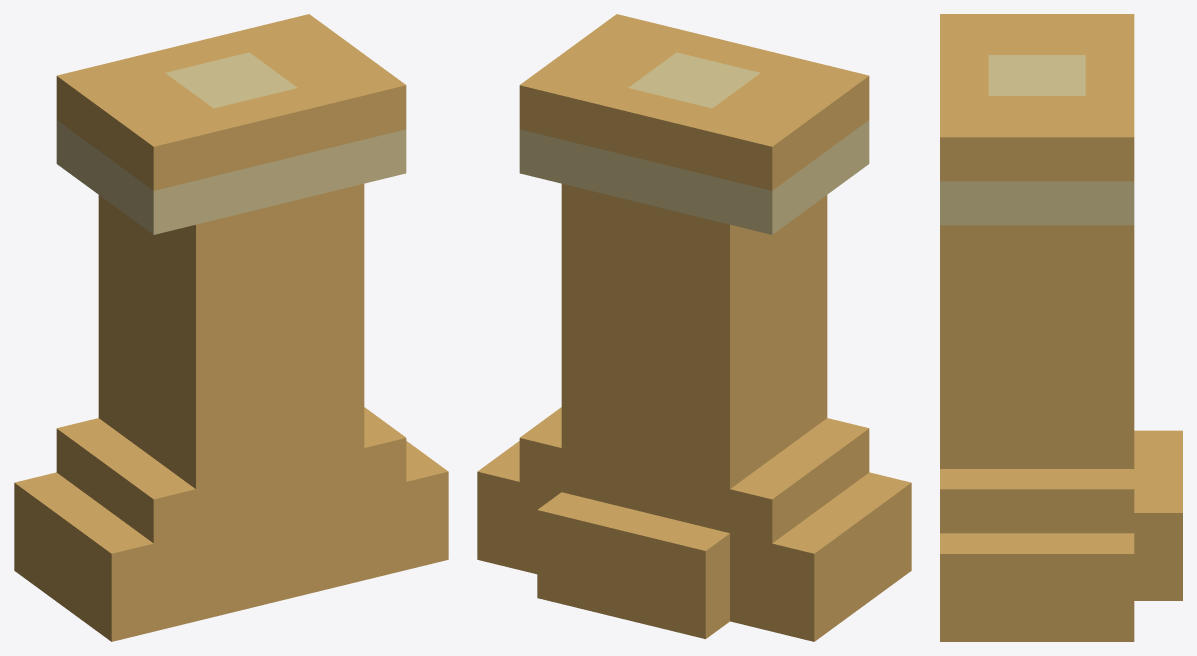
The model's file is pour_stream.glb.
3 views of the same model, side by side, from view 1: azimuth 30°, elevation 25°; view 2: azimuth 150°, elevation 25°; view 3: azimuth 270°, elevation 25° (orthographic).
Size of the model in its own units: 8 by 11 by 5.
